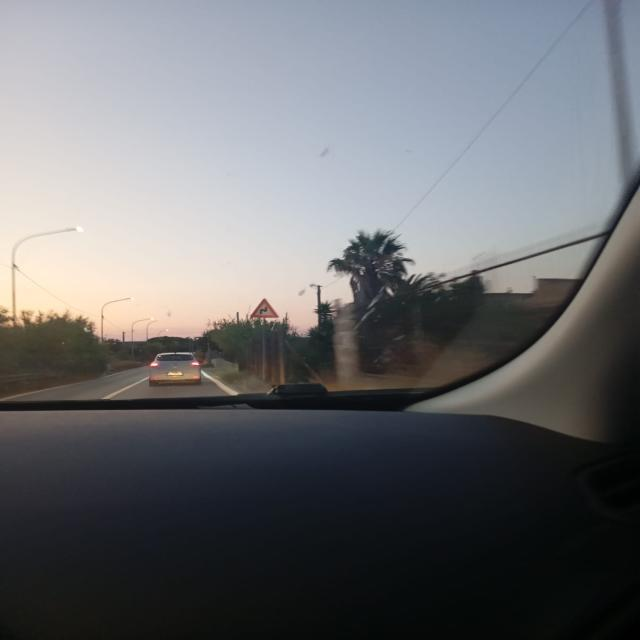warn_double_curve: (250, 298, 280, 318)
